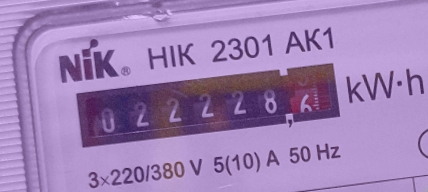0: (97, 104, 116, 134)
2: (129, 97, 151, 129), (228, 86, 248, 117), (195, 89, 215, 119), (163, 94, 182, 124)
5: (292, 66, 310, 88)
6: (295, 89, 313, 112)
8: (260, 85, 278, 115)
screen: (65, 49, 350, 157)
